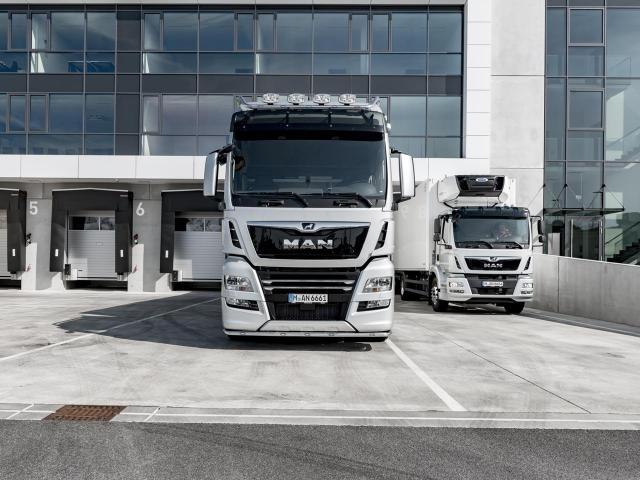truck: (200, 82, 418, 364)
